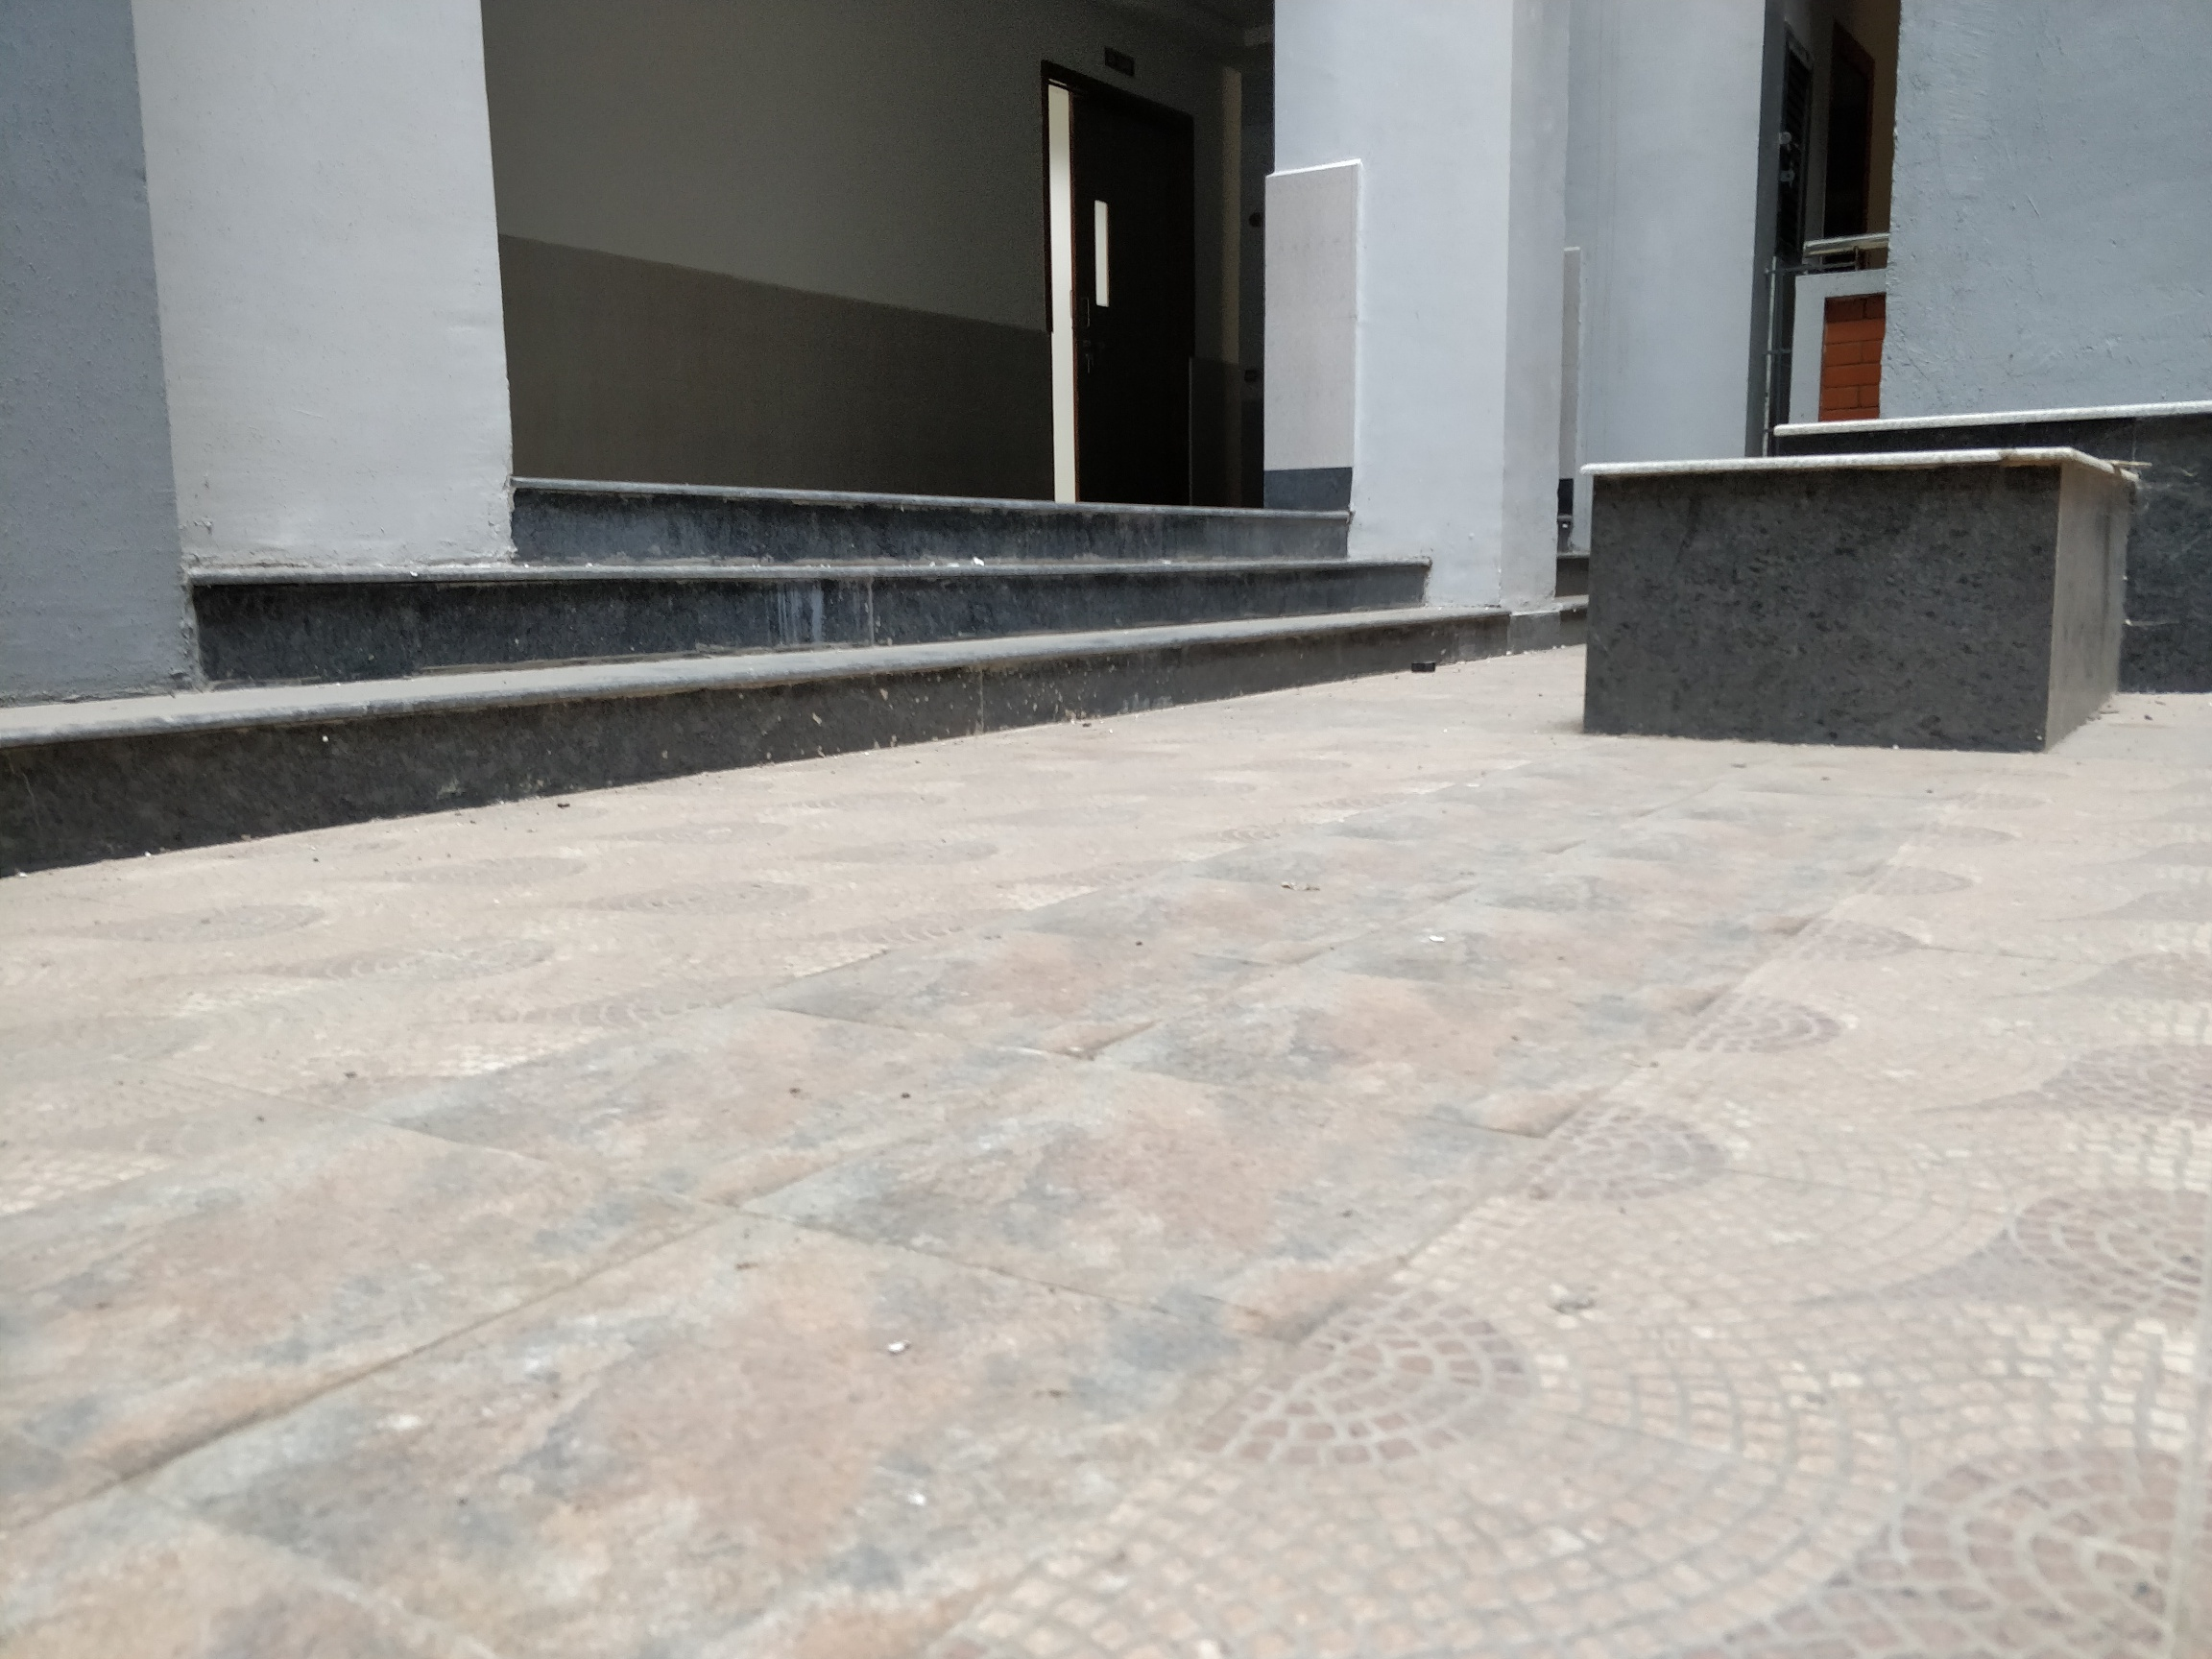stairs_up: (523, 488, 1426, 701)
